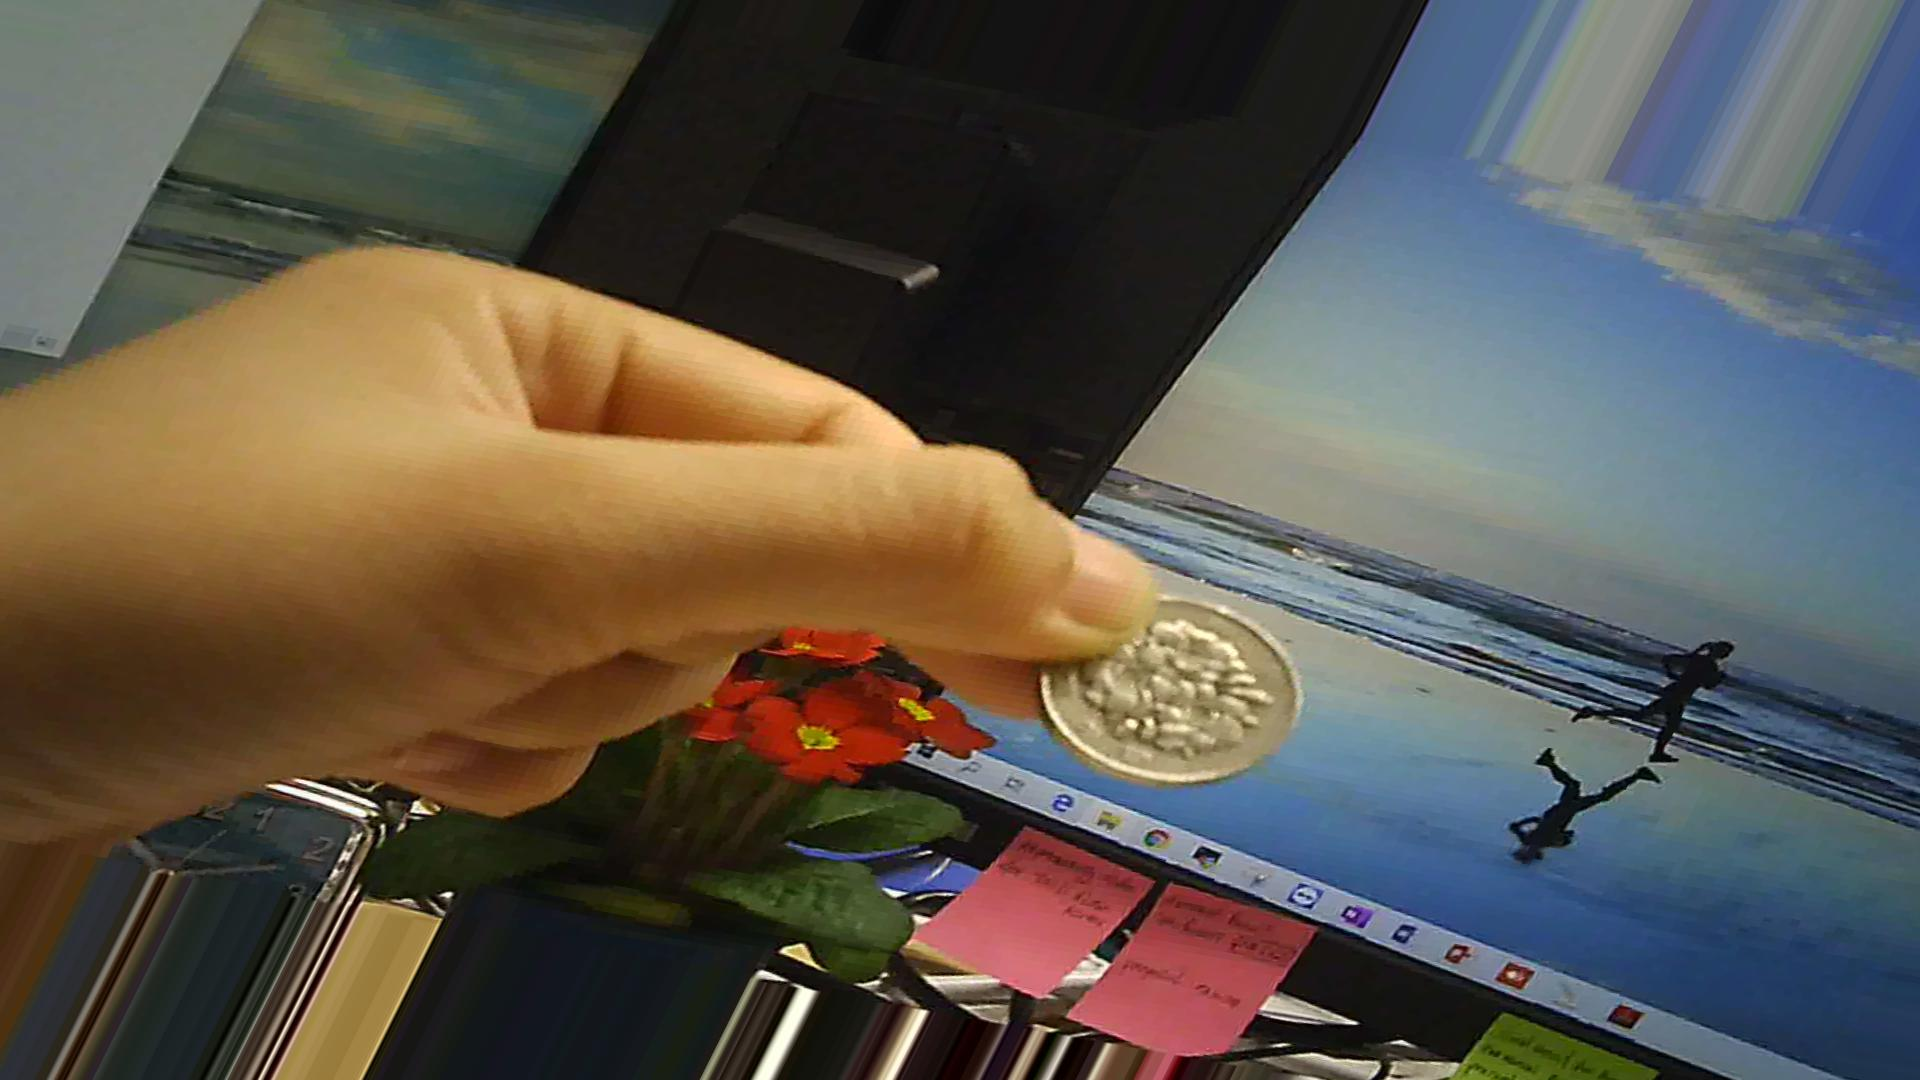100 Yen: (1017, 583, 1320, 782)
